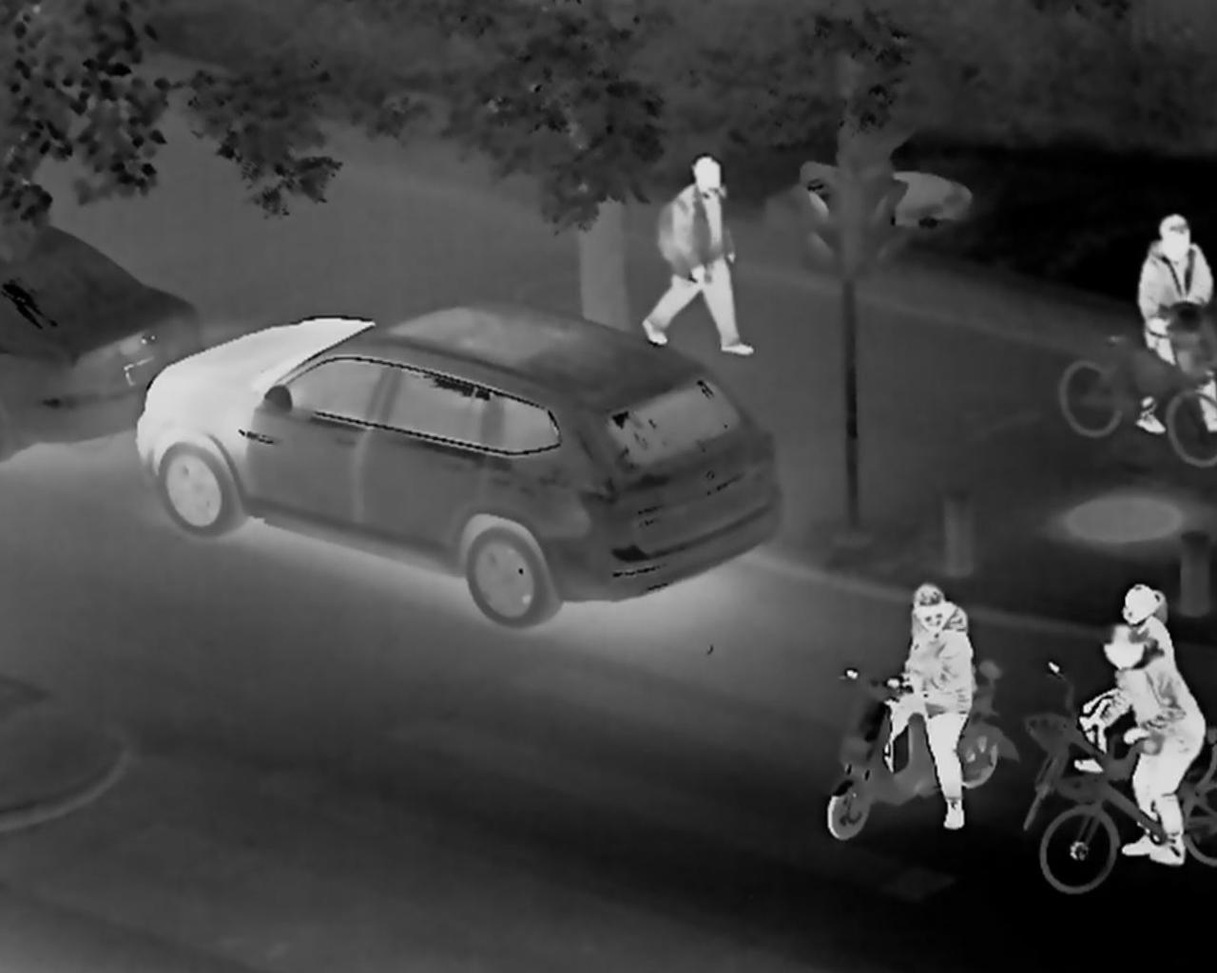person: (1083, 629, 1204, 868), (637, 142, 752, 363), (879, 570, 970, 835), (1068, 563, 1177, 774), (1131, 204, 1215, 443)
